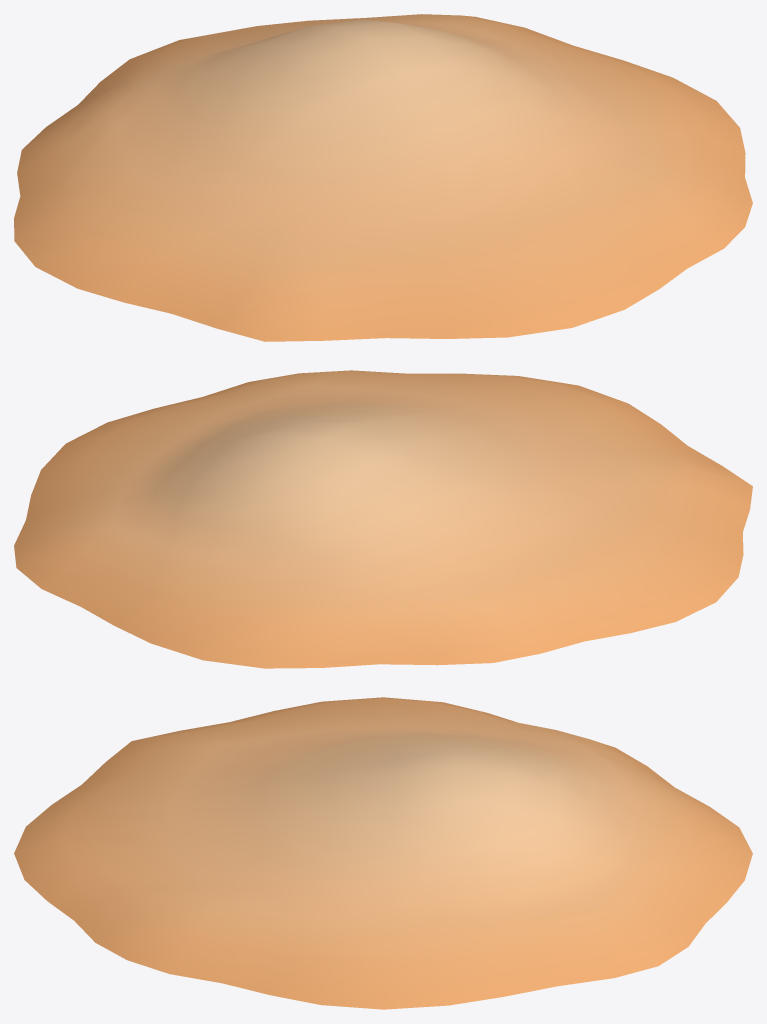
File: SM_Island.fbx
3 renders of one model, top to bottom at view 1: azimuth 30°, elevation 25°; view 2: azimuth 150°, elevation 25°; view 3: azimuth 270°, elevation 25°, orthographic. The views are drawn at different scales.
Parts seen in each view (by area): view 1: SM_Island; view 2: SM_Island; view 3: SM_Island.
Boxes of the visible parts, x1,y1,x2,y2 form: SM_Island: [14, 14, 752, 341]; SM_Island: [14, 370, 752, 668]; SM_Island: [14, 697, 752, 1009].
Bounding box in the file's own units: 30.73 × 4.64 × 30.73.
